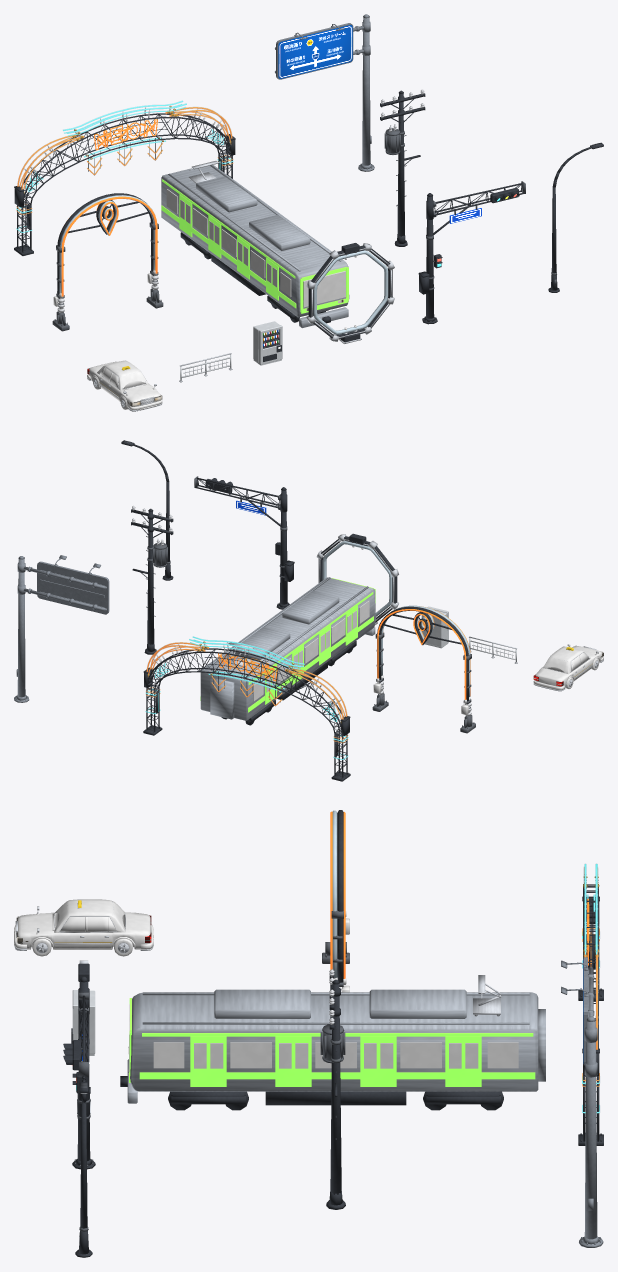
File: shibuya_props.glb
The picture shows the model from 3 angles, top to bottom: view 1: azimuth 30°, elevation 25°; view 2: azimuth 150°, elevation 25°; view 3: azimuth 270°, elevation 25°; orthographic projection. The views are drawn at different scales.
Visible parts, largest first — view 1: Yamanote_Body, NeonArch_TrussSteel, Yamanote_Windows, AoKanban_SignFace, Yamanote_Stripe, Gantry_MastAndTruss, NeonArch_GlassShell, Taxi_Body, AoKanban_PoleAndArms, Pole_Structure, NeonArch_PlasmaOrange, NeonArch_PlasmaCyan (+10 smaller); view 2: Yamanote_Body, NeonArch_TrussSteel, AoKanban_FrameAndBack, AoKanban_PoleAndArms, Gantry_MastAndTruss, Yamanote_Stripe, Yamanote_Windows, Taxi_Body, NeonArch_GlassShell, Pole_Structure, PinGate_Frame, NeonArch_PlasmaCyan (+10 smaller); view 3: Yamanote_Body, Yamanote_Stripe, Yamanote_Windows, Yamanote_Bogies, Taxi_Body, AoKanban_PoleAndArms, Pole_Structure, NeonArch_TrussSteel, Gantry_MastAndTruss, Lamp_PoleAndHood, PinGate_Frame, PinGate_PlasmaTube (+7 smaller).
Part boxes in pixels (x1,y1,x2,y2): Yamanote_Body: [161, 165, 349, 328]; NeonArch_TrussSteel: [14, 113, 235, 255]; Yamanote_Windows: [166, 189, 345, 307]; AoKanban_SignFace: [278, 25, 352, 78]; Yamanote_Stripe: [161, 179, 348, 313]; Gantry_MastAndTruss: [418, 182, 524, 324]; NeonArch_GlassShell: [16, 101, 232, 232]; Taxi_Body: [87, 360, 162, 410]; AoKanban_PoleAndArms: [275, 14, 374, 171]; Pole_Structure: [380, 90, 425, 246]; NeonArch_PlasmaOrange: [16, 107, 233, 214]; NeonArch_PlasmaCyan: [16, 100, 233, 232]; Yamanote_Body: [200, 577, 375, 720]; NeonArch_TrussSteel: [143, 648, 350, 781]; AoKanban_FrameAndBack: [37, 561, 109, 614]; AoKanban_PoleAndArms: [14, 555, 106, 702]; Gantry_MastAndTruss: [195, 477, 294, 609]; Yamanote_Stripe: [200, 578, 375, 712]; Yamanote_Windows: [253, 600, 369, 701]; Taxi_Body: [533, 645, 603, 690]; NeonArch_GlassShell: [147, 636, 348, 759]; Pole_Structure: [131, 508, 173, 654]; PinGate_Frame: [377, 606, 468, 701]; NeonArch_PlasmaCyan: [145, 636, 348, 759]; Yamanote_Body: [127, 989, 545, 1103]; Yamanote_Stripe: [129, 998, 535, 1086]; Yamanote_Windows: [129, 1004, 518, 1072]; Yamanote_Bogies: [120, 1076, 503, 1110]; Taxi_Body: [14, 899, 153, 949]; AoKanban_PoleAndArms: [561, 960, 603, 1247]; Pole_Structure: [326, 975, 345, 1209]; NeonArch_TrussSteel: [578, 884, 603, 1145]; Gantry_MastAndTruss: [72, 976, 95, 1169]; Lamp_PoleAndHood: [75, 1075, 92, 1257]; PinGate_Frame: [337, 810, 343, 982]; PinGate_PlasmaTube: [330, 811, 345, 978].
Size of the model in its own units: 28.67 by 8.61 by 20.13.
31 materials, 31 textured.
